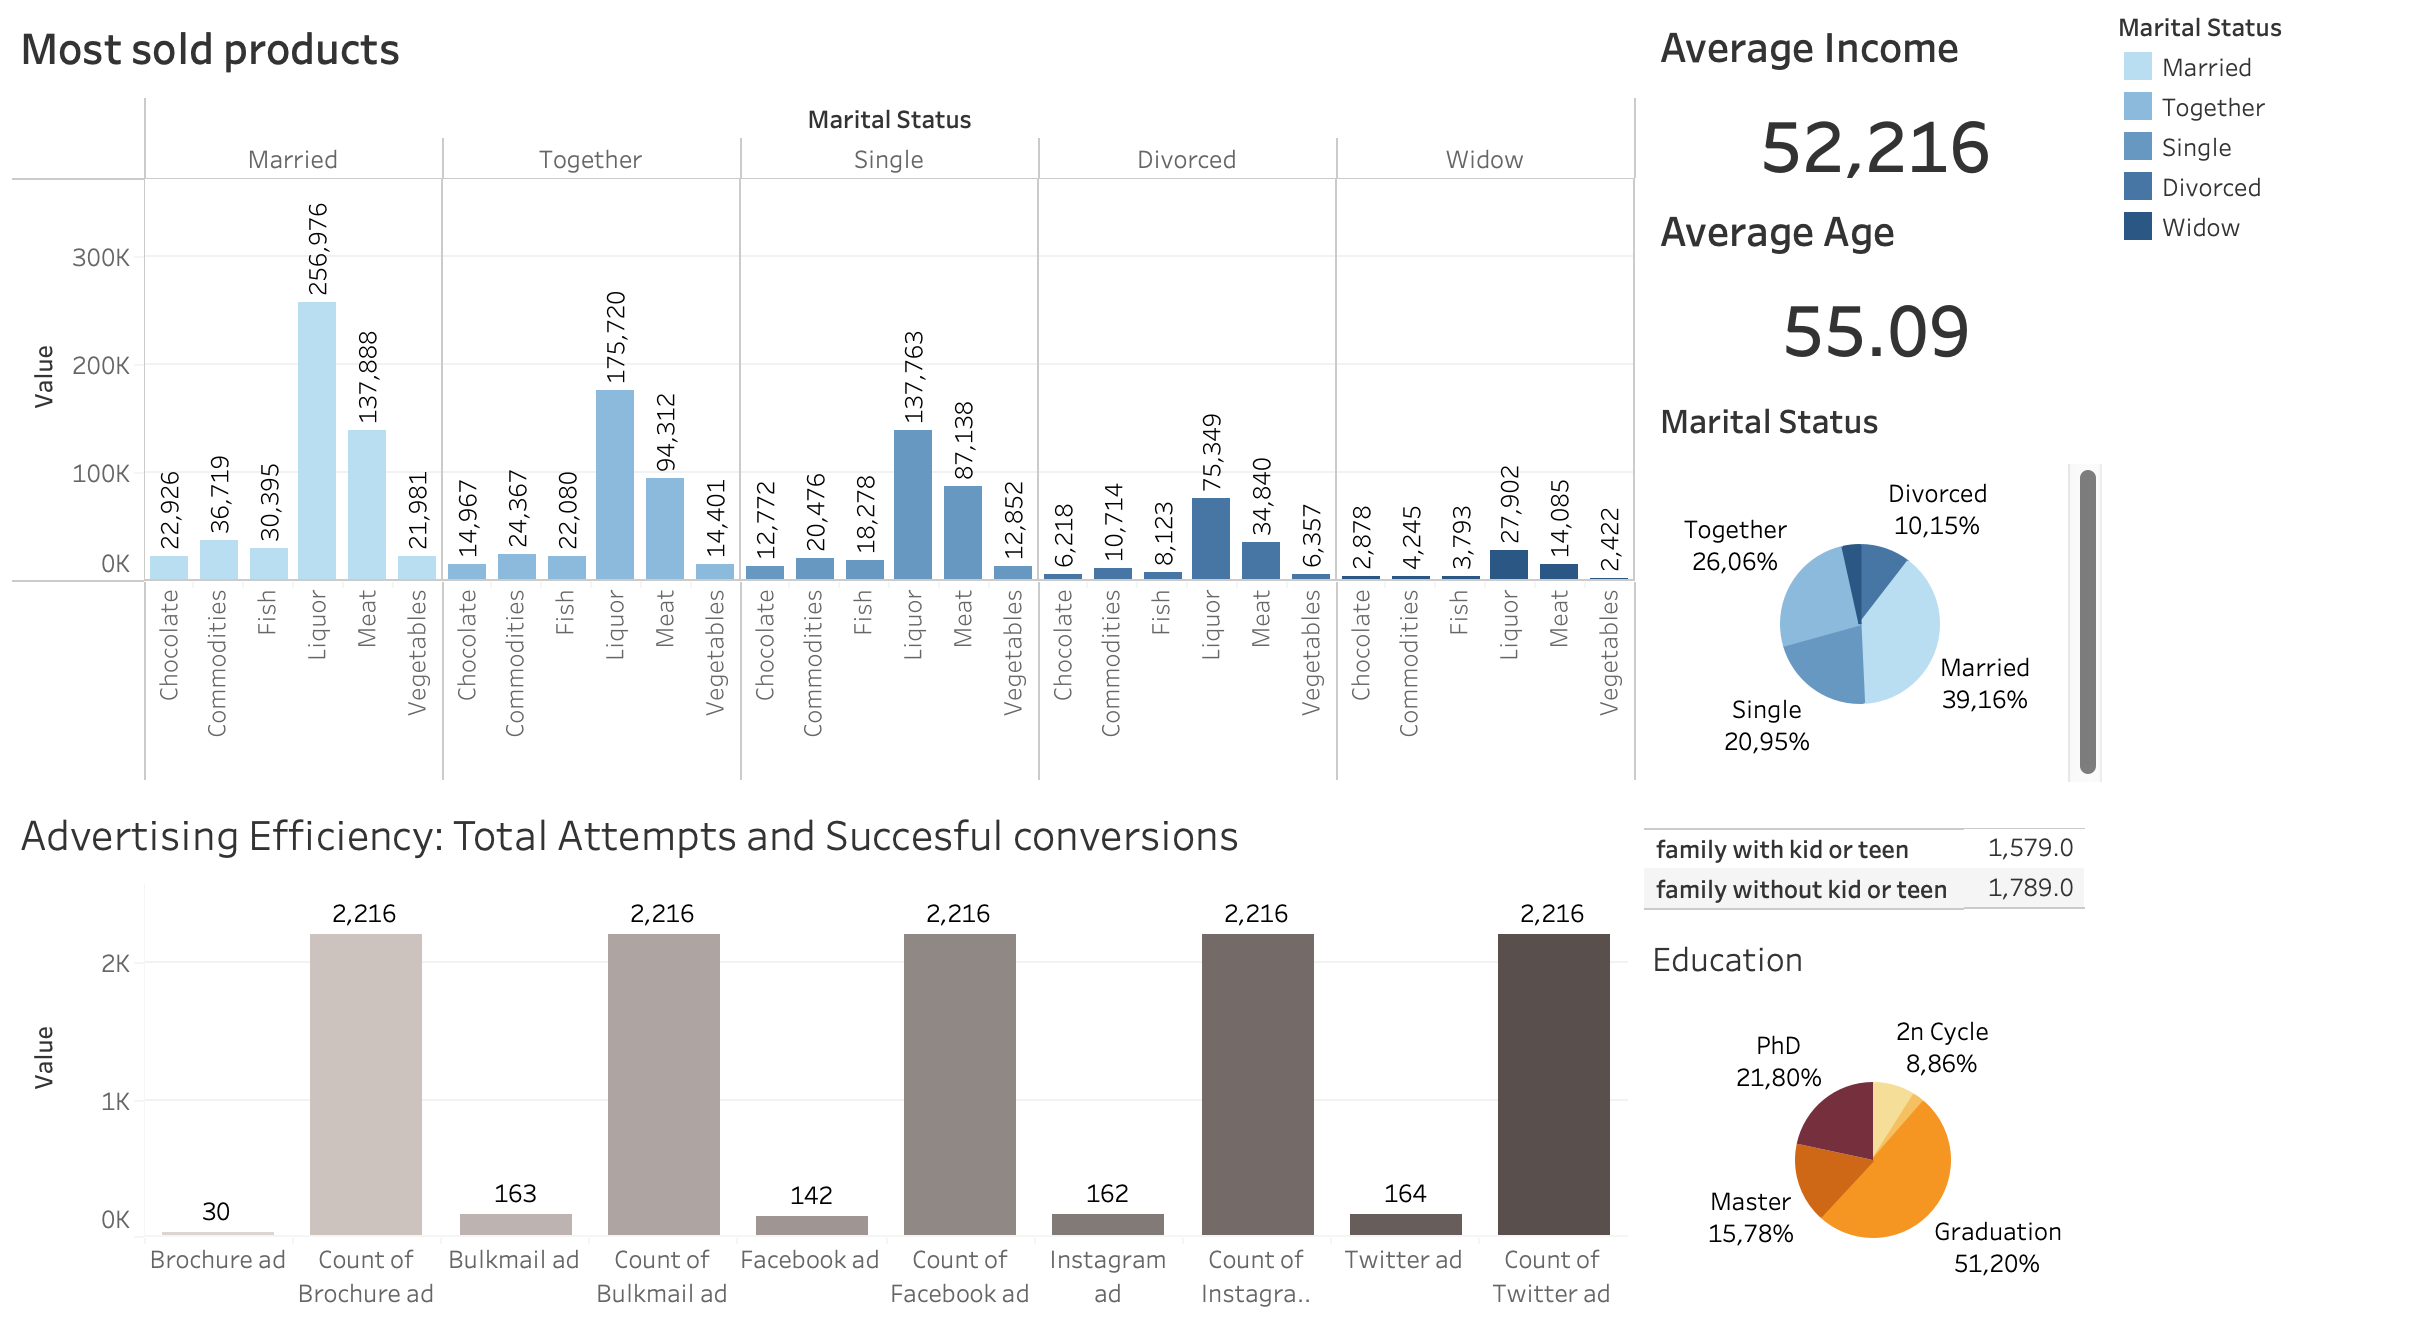

This screenshot's page, from the dashboard's own definition file:
{"tool":"tableau","page":{"name":"Final dashboard","canvas":[1000,1000],"units":"permille","ordinal":0},"visuals":[{"type":"worksheet","title":"Most sold product ","mark":"Automatic","cols":["Marital_Status"],"box":[6.5,11.5,666.8,583]},{"type":"worksheet","title":"Avg Income","mark":"Automatic","box":[673.3,11.5,190,135.7]},{"type":"legend","title":"Most sold product ","param":"[federated.0nth7t0101rj2i149nfna09gbsfq].[none:Marital_Status:nk]","box":[863.3,11.5,130.2,181.8]},{"type":"worksheet","title":"Avg age","mark":"Automatic","box":[673.3,147.2,190,145.7]},{"type":"worksheet","title":"Marital Status","mark":"Pie","box":[673.3,292.9,190,301.6]},{"type":"worksheet","title":"Asvertising","mark":"Automatic","box":[6.5,594.5,663.6,393.9]},{"type":"worksheet","title":"Family kids","mark":"Automatic","box":[670.1,594.5,193.2,95.2]},{"type":"worksheet","title":"Education","mark":"Pie","box":[670.1,689.8,193.2,298.7]}]}

Visuals, with their boxes on the dashboard's canvas, which has no fixed pixel size, in thousandths of its width and height (x1, y1, x2, y2). These are canvas units, not pixel positions in the 2430x1322 screenshot, which may show the page scaled, cropped or inside an application window:
"Most sold product " worksheet: box=[6, 12, 673, 594]
"Avg Income" worksheet: box=[673, 12, 863, 147]
"Most sold product " legend: box=[863, 12, 994, 193]
"Avg age" worksheet: box=[673, 147, 863, 293]
"Marital Status" worksheet (Pie marks): box=[673, 293, 863, 594]
"Asvertising" worksheet: box=[6, 594, 670, 988]
"Family kids" worksheet: box=[670, 594, 863, 690]
"Education" worksheet (Pie marks): box=[670, 690, 863, 988]
